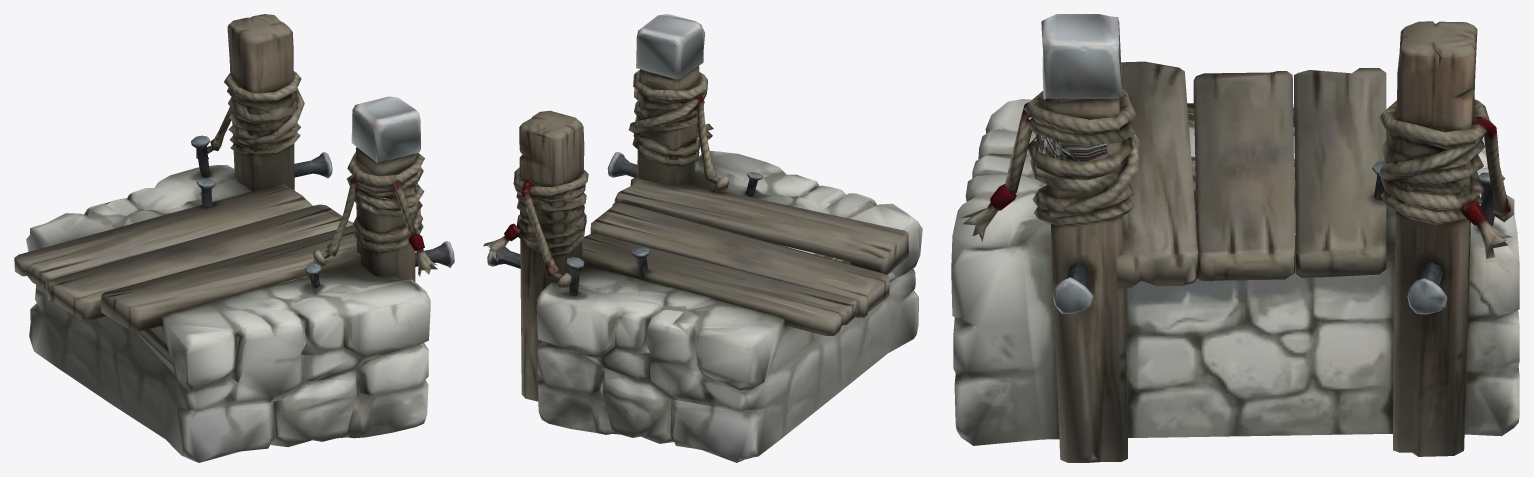
The model's file is obj_bridge_head.glb.
The picture shows the model from 3 angles, left to right: view 1: azimuth 30°, elevation 25°; view 2: azimuth 150°, elevation 25°; view 3: azimuth 270°, elevation 25°; orthographic projection. The views are drawn at different scales.
Parts seen in each view (by area): view 1: model; view 2: model; view 3: model.
Boxes of the visible parts, box(x1,y1,x2,y2) form: model: box(14, 14, 454, 462); model: box(483, 14, 922, 462); model: box(951, 14, 1519, 462).
Size of the model in its own units: 1.19 by 1 by 1.22.
1 material, 1 textured.
